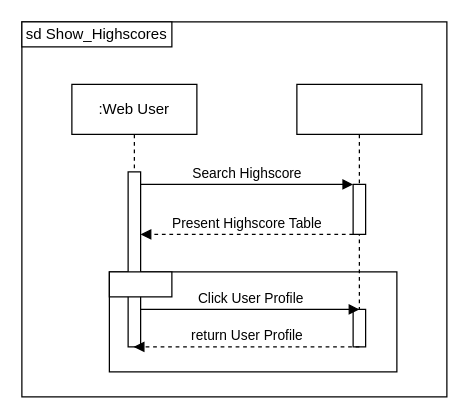
Some shapes in this 469 by 419 pixel diagram are drawn without their labels. Here are the shapes that lost their labels. From the top down, the centre of each, then its label:
point 359,215: :Backend
point 140,284: opt
